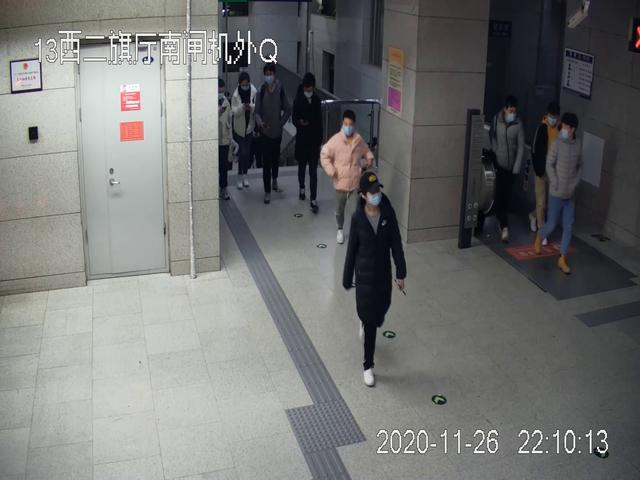person: (344, 171, 408, 389), (318, 110, 375, 246), (535, 113, 583, 273), (489, 99, 527, 241), (289, 73, 325, 214), (254, 64, 287, 205), (534, 106, 567, 245), (229, 72, 262, 189)
